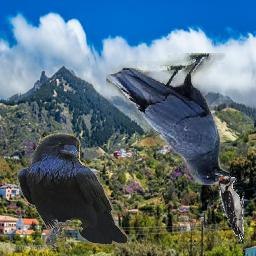Crow: (106, 53, 230, 185), (17, 133, 127, 248)
Woodpecker: (218, 175, 244, 244)
